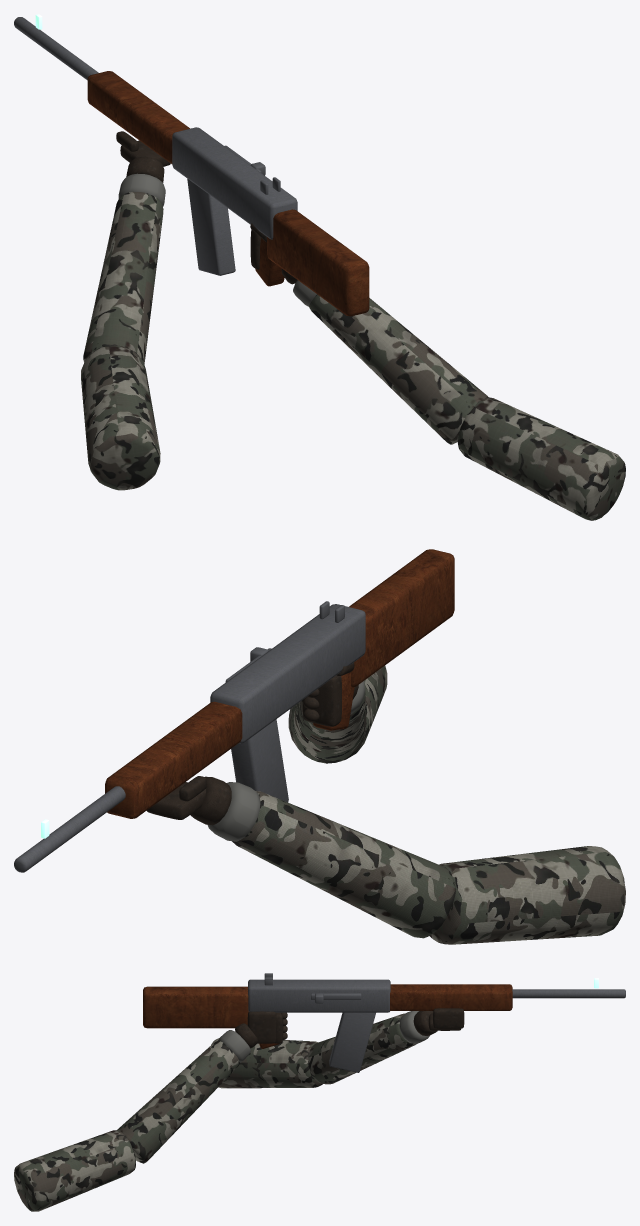
The model's file is vm_rifle.glb.
3 views of the same model, one above another, from view 1: azimuth 30°, elevation 25°; view 2: azimuth 150°, elevation 25°; view 3: azimuth 270°, elevation 25° (orthographic). The views are drawn at different scales.
Parts seen in each view (by area): view 1: UpperArmR, ForearmR, UpperArmL, ForearmL, Stock, Receiver, Handguard, Mag, Barrel, CuffL, PistolGrip; view 2: UpperArmL, ForearmL, Receiver, Stock, Handguard, Mag, ForearmR, Barrel, CuffL, WristL, FingersR, UpperArmR (+2 smaller); view 3: UpperArmR, ForearmR, Stock, Receiver, UpperArmL, Handguard, ForearmL, Mag, Barrel, PalmR, FingersL, CuffR (+2 smaller).
Boxes of the visible parts, x1=… form: UpperArmR: x1=457, y1=397, x2=625, y2=520; ForearmR: x1=309, y1=294, x2=488, y2=444; UpperArmL: x1=81, y1=345, x2=160, y2=490; ForearmL: x1=83, y1=191, x2=163, y2=364; Stock: x1=267, y1=209, x2=369, y2=316; Receiver: x1=172, y1=127, x2=297, y2=239; Handguard: x1=87, y1=71, x2=189, y2=163; Mag: x1=187, y1=179, x2=235, y2=275; Barrel: x1=14, y1=17, x2=98, y2=80; CuffL: x1=118, y1=173, x2=165, y2=206; PistolGrip: x1=255, y1=238, x2=284, y2=286; UpperArmL: x1=429, y1=846, x2=625, y2=944; ForearmL: x1=232, y1=791, x2=455, y2=938; Receiver: x1=210, y1=604, x2=365, y2=743; Stock: x1=349, y1=549, x2=454, y2=687; Handguard: x1=105, y1=701, x2=242, y2=818; Mag: x1=231, y1=719, x2=288, y2=802; ForearmR: x1=290, y1=692, x2=366, y2=763; Barrel: x1=14, y1=786, x2=125, y2=872; CuffL: x1=207, y1=782, x2=260, y2=841; WristL: x1=190, y1=776, x2=231, y2=825; FingersR: x1=302, y1=675, x2=341, y2=726; UpperArmR: x1=288, y1=665, x2=387, y2=760; UpperArmR: x1=14, y1=1130, x2=135, y2=1211; ForearmR: x1=117, y1=1040, x2=239, y2=1163; Stock: x1=143, y1=986, x2=248, y2=1028; Receiver: x1=248, y1=979, x2=390, y2=1012; UpperArmL: x1=211, y1=1038, x2=322, y2=1088; Handguard: x1=390, y1=984, x2=512, y2=1010; ForearmL: x1=308, y1=1013, x2=417, y2=1084; Mag: x1=329, y1=1012, x2=375, y2=1072; Barrel: x1=512, y1=989, x2=625, y2=998; PalmR: x1=247, y1=1011, x2=276, y2=1043; FingersL: x1=433, y1=1008, x2=464, y2=1028; CuffR: x1=218, y1=1030, x2=250, y2=1062.
Size of the model in its own units: 0.7741 by 0.4711 by 1.46.
Materials: 6 (4 with a texture image).
